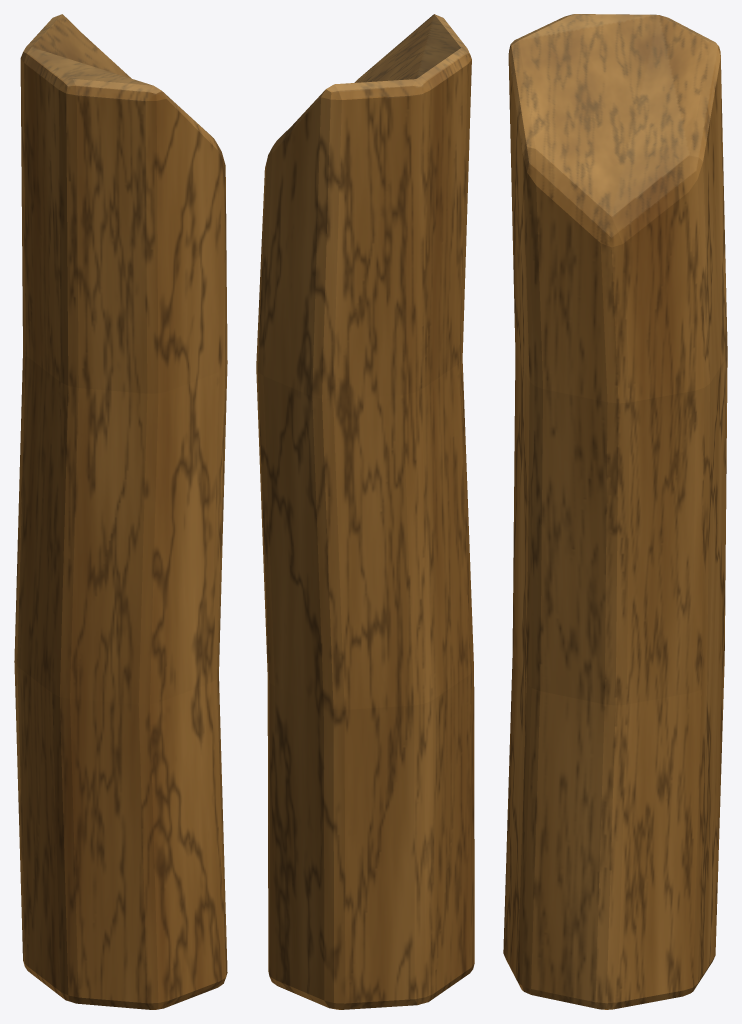
File: rail_fence_post.glb
3 views of the same model, side by side, from view 1: azimuth 30°, elevation 25°; view 2: azimuth 150°, elevation 25°; view 3: azimuth 270°, elevation 25° (orthographic).
Visible parts, largest first — view 1: rail_fence_post; view 2: rail_fence_post; view 3: rail_fence_post.
Boxes of the visible parts, bbox=[...] form: rail_fence_post: bbox=[14, 14, 227, 1009]; rail_fence_post: bbox=[256, 14, 474, 1009]; rail_fence_post: bbox=[503, 14, 727, 1009].
Bounding box in the file's own units: 0.2088 × 1 × 0.2207.
Materials: 1 (1 with a texture image).
